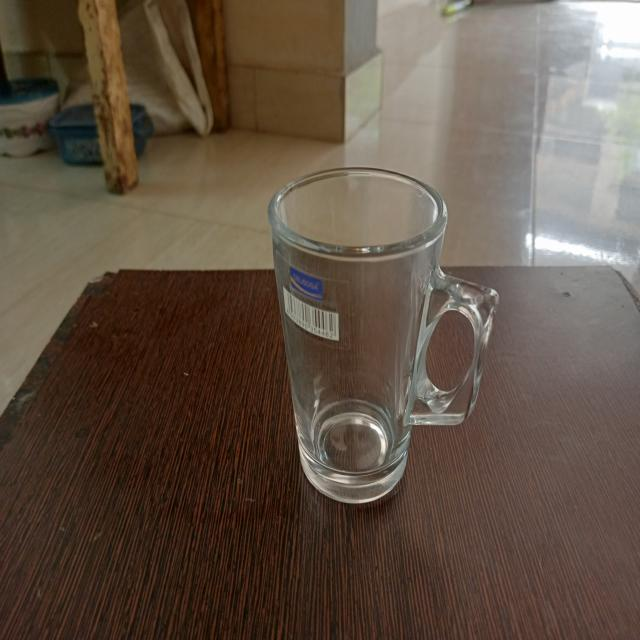glass-VX4N: (268, 166, 500, 506)
